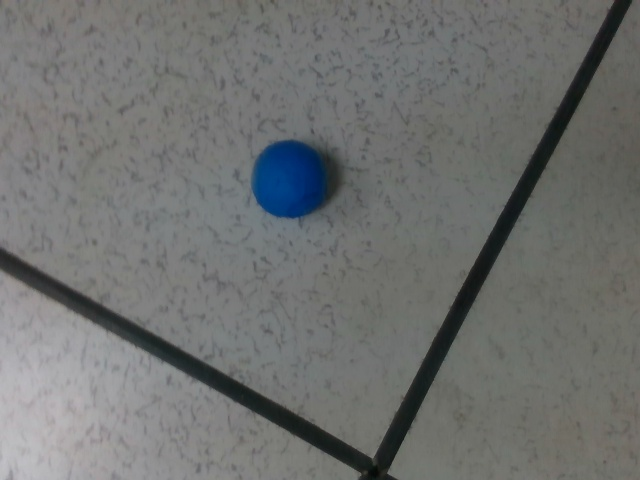blueball: (250, 142, 327, 216)
